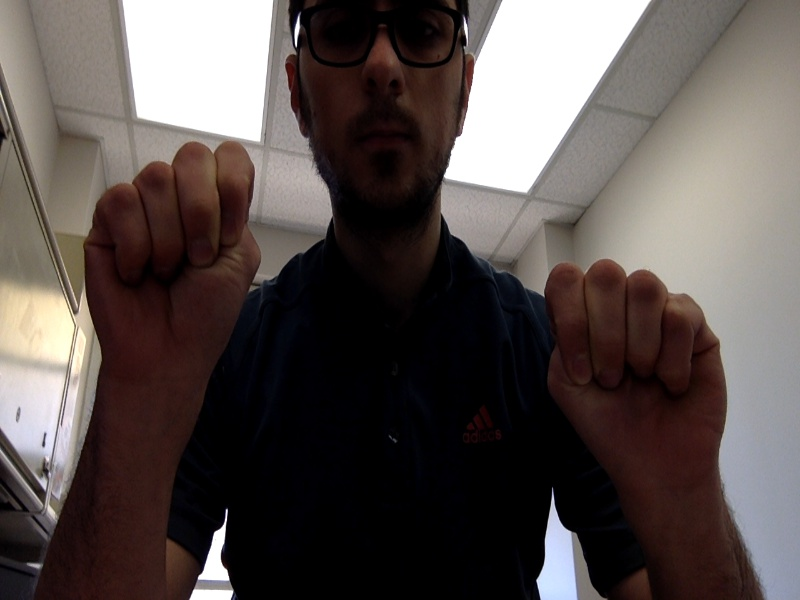0-hand: (548, 259, 727, 491), (83, 141, 260, 373)
